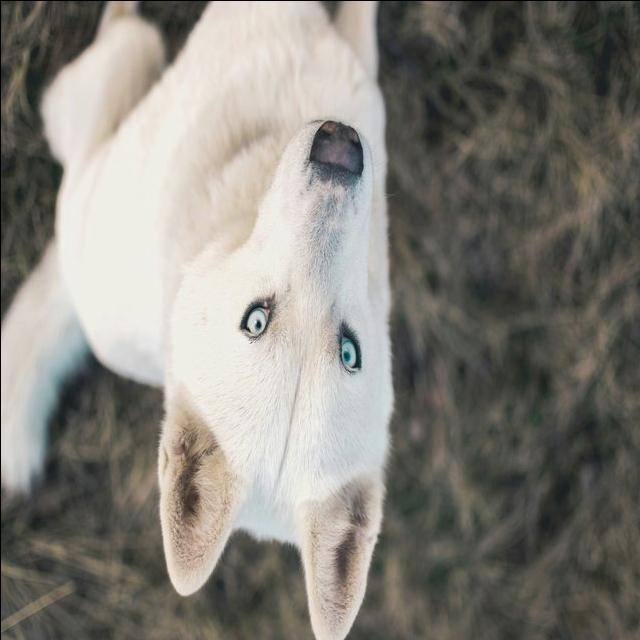husky: (0, 2, 395, 640)
